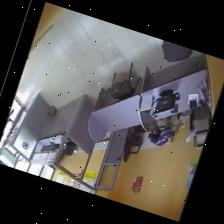person: (148, 117, 175, 145)
